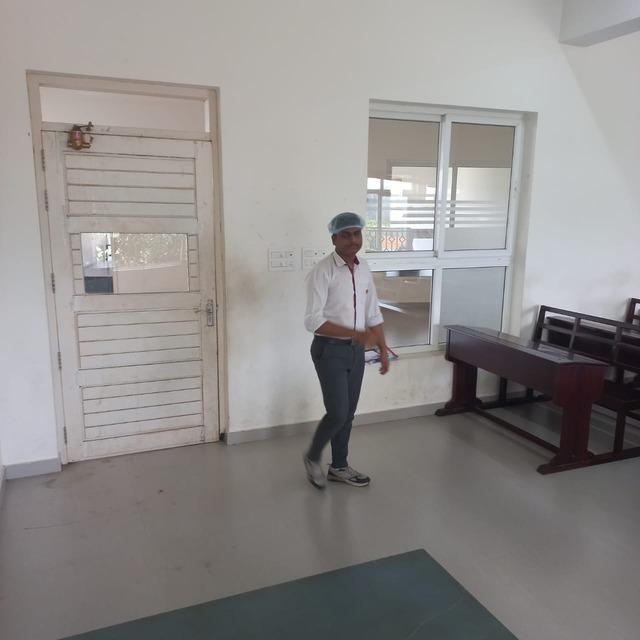bare_hand: (349, 311, 376, 359), (374, 345, 394, 380)
